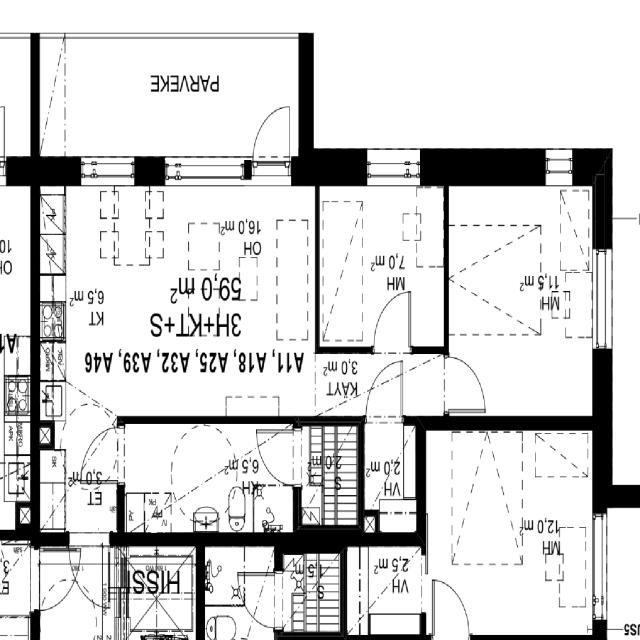door: (117, 178, 314, 419), (38, 543, 102, 613), (370, 287, 413, 357), (250, 100, 293, 166), (443, 349, 488, 409), (364, 362, 406, 425), (430, 574, 472, 637), (66, 543, 98, 604)
window: (590, 242, 618, 359), (162, 151, 248, 184), (362, 142, 426, 186), (75, 152, 139, 184), (591, 510, 610, 614), (539, 138, 578, 185), (250, 160, 292, 183), (0, 152, 8, 188)
zone: (449, 187, 593, 425), (441, 427, 596, 640), (317, 183, 444, 348), (123, 421, 298, 531), (347, 542, 422, 637), (295, 419, 362, 524), (204, 545, 276, 639), (363, 419, 418, 533), (127, 548, 196, 636), (601, 502, 640, 635), (302, 548, 343, 633), (272, 550, 308, 637)
